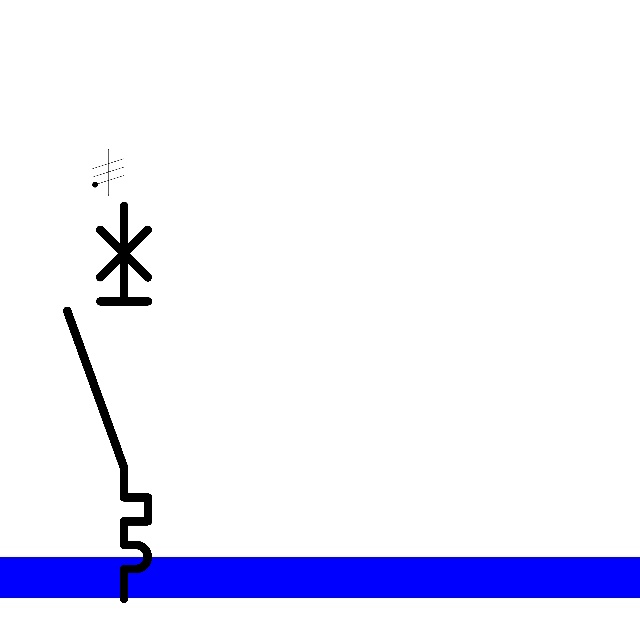interruptor_termomagnetico: (57, 195, 158, 609)
